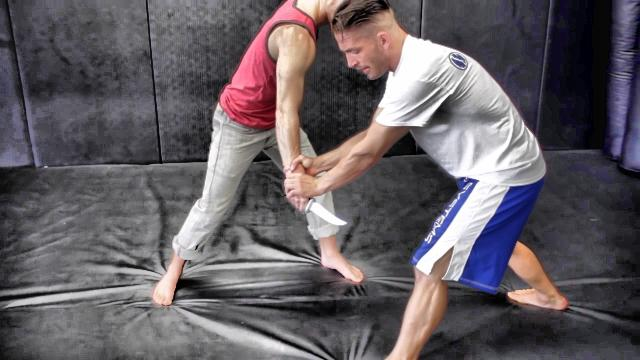knife: (282, 193, 352, 227)
